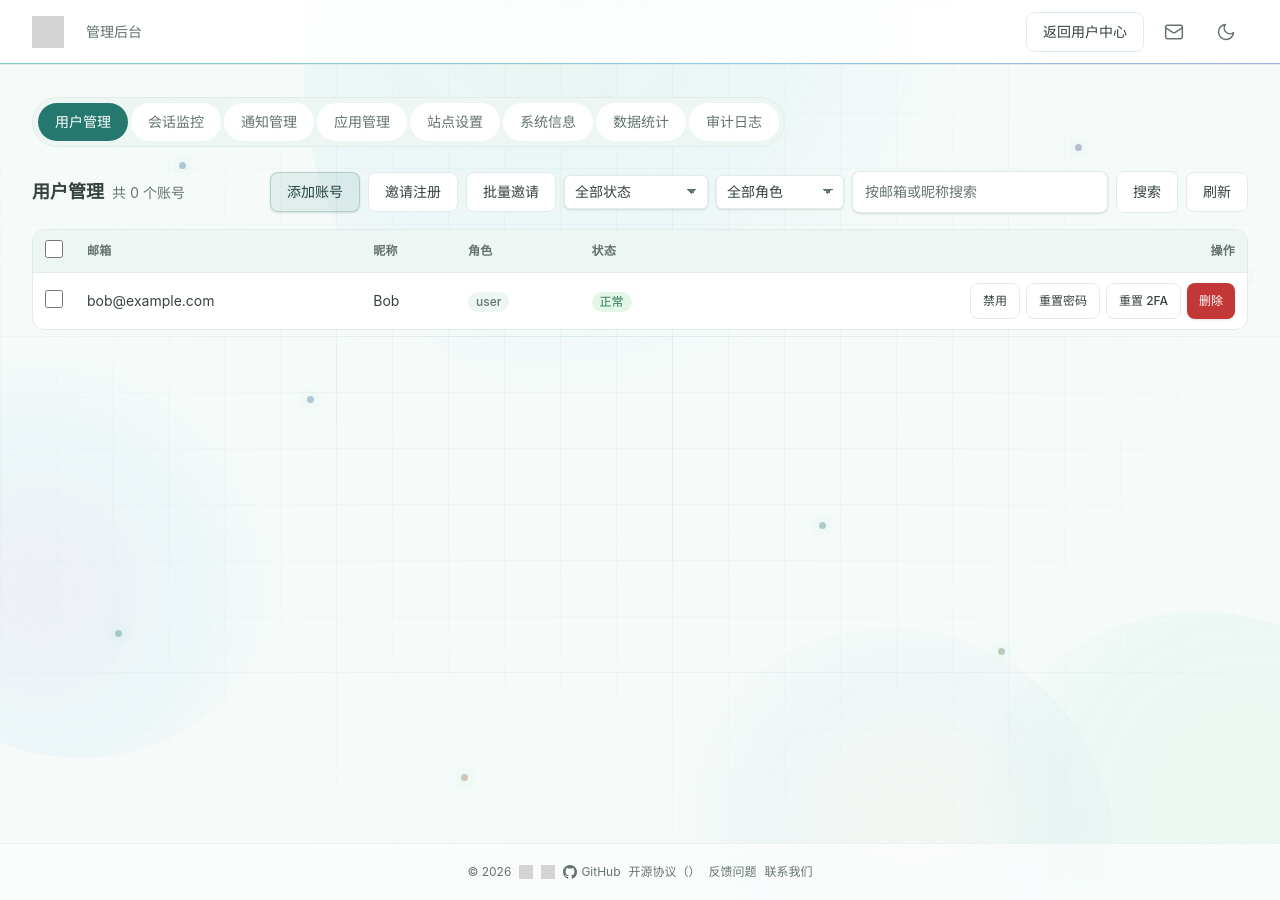
Scenario: AdminPage › 管理员可查看用户管理并切换审计日志
This screenshot has width=1280, height=900.
expect the text "bob@example.com" is shown: met, box [75, 272, 361, 329]
Click the link "审计日志" at (734, 122), box [689, 103, 779, 141]
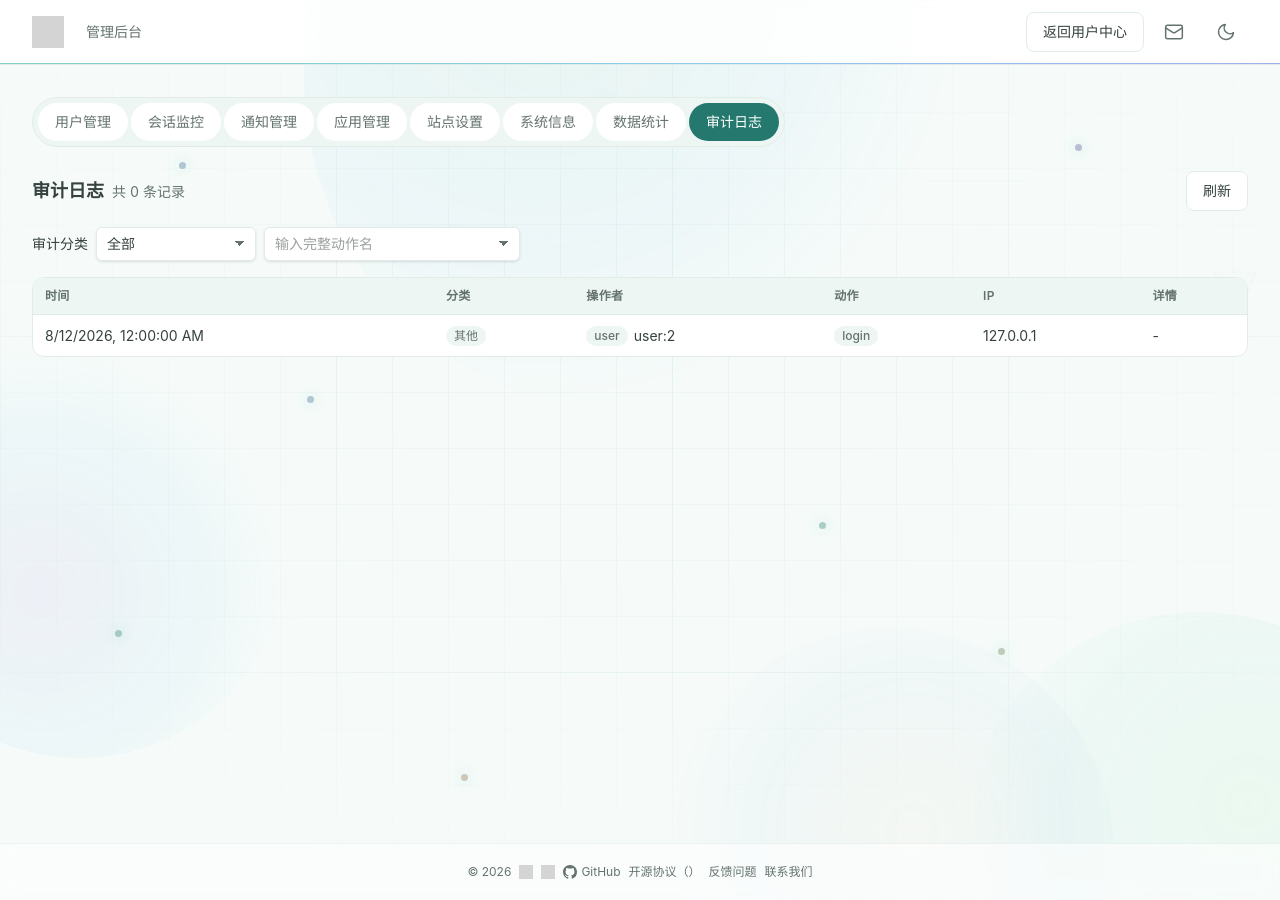
expect the text "login" is shown: met, box [834, 326, 878, 346]
